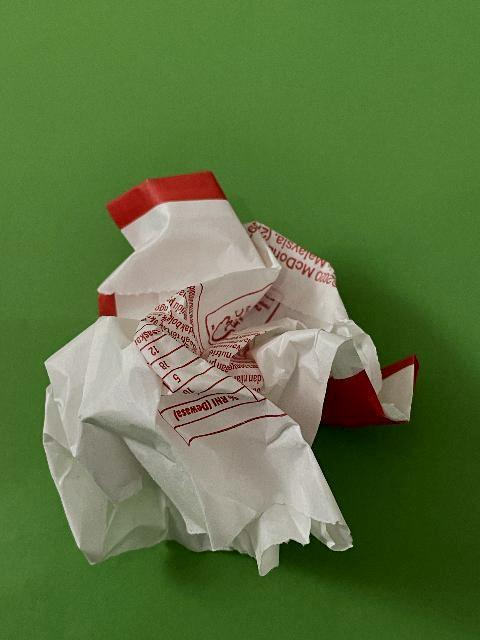paperbag: (42, 170, 418, 582)
